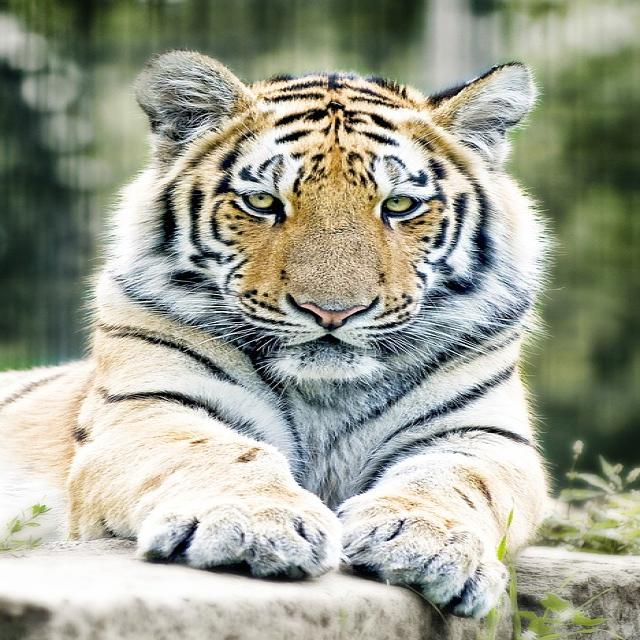Carnivorous: (0, 50, 555, 628)
